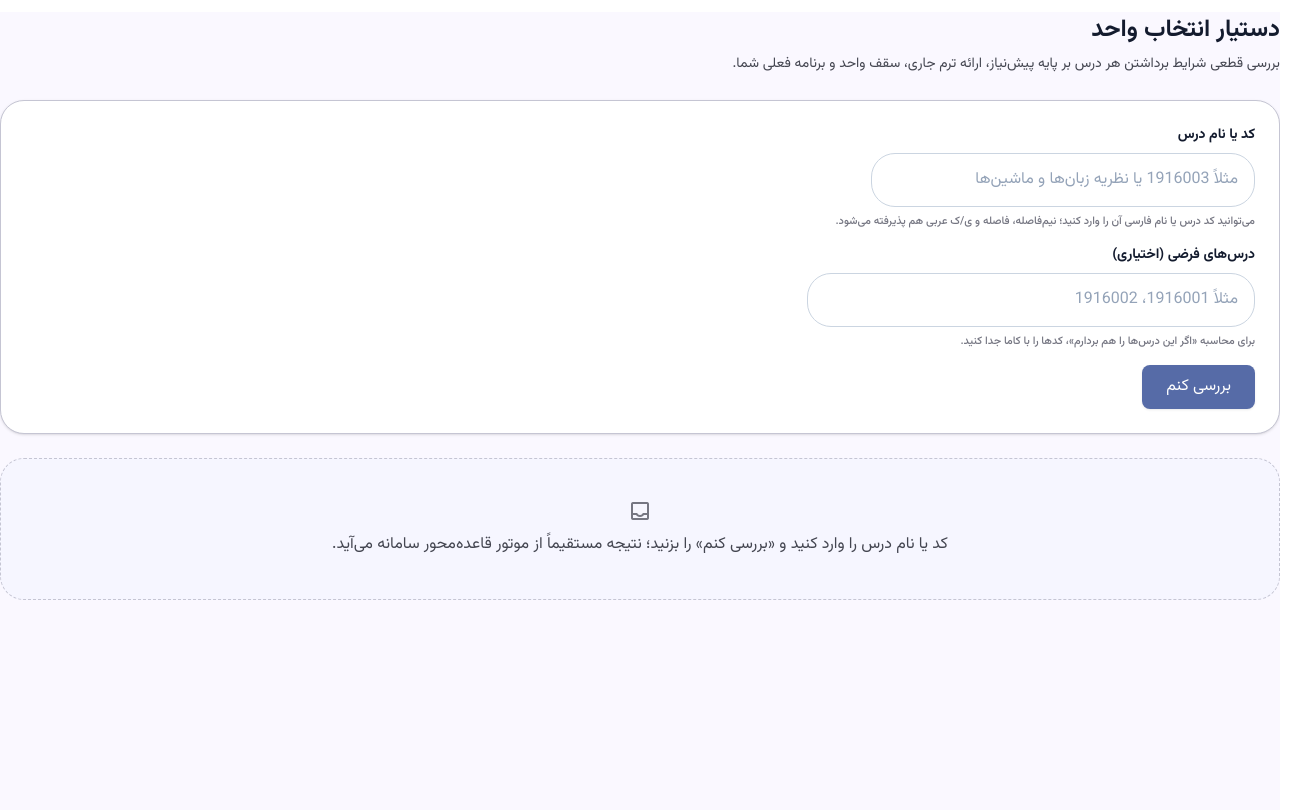
Scenario: course selection page › does not fire a second request when the button is double-clicked
Later steps or results of the test are not shown.
Type "1916003" into the field labelled "کد یا نام درس" at (1063, 180), box [871,153,1255,207]
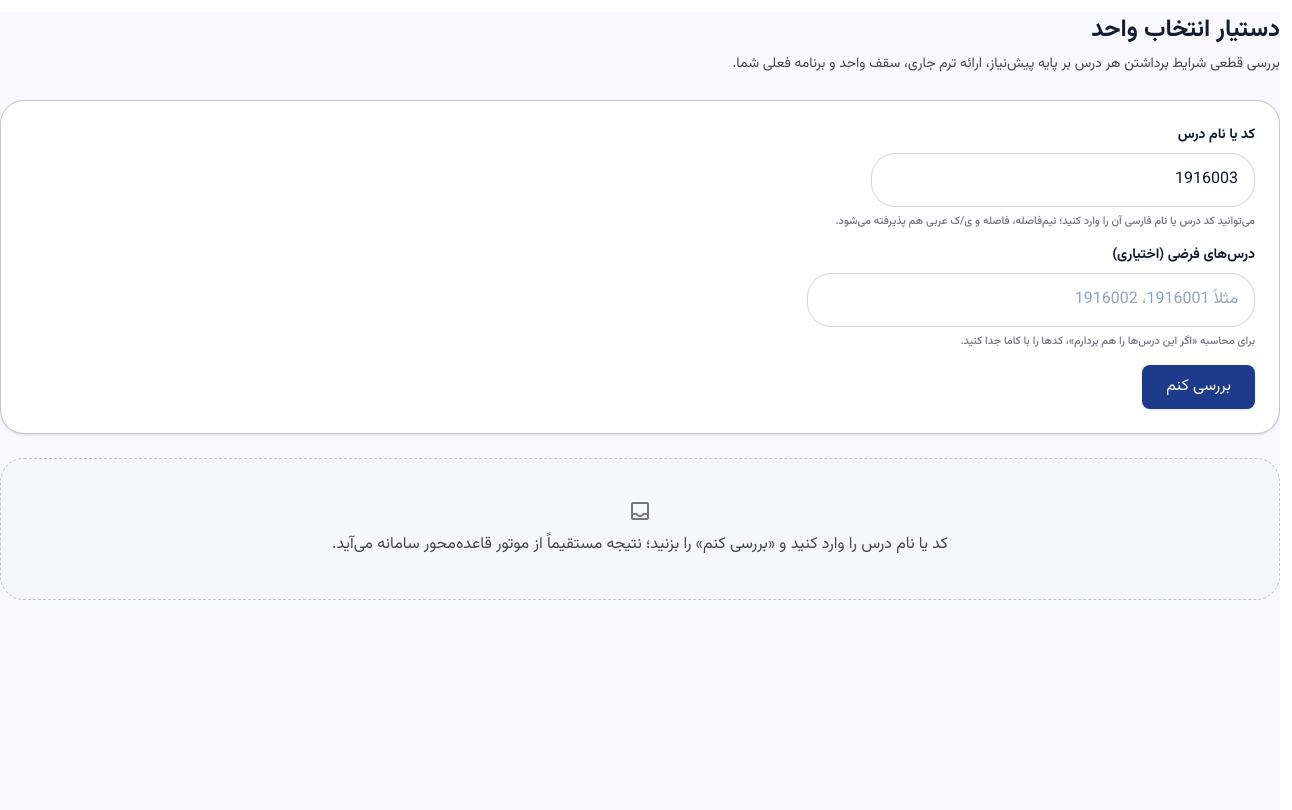
Click the button "بررسی کنم" at (1199, 387), box [1142,365,1255,409]
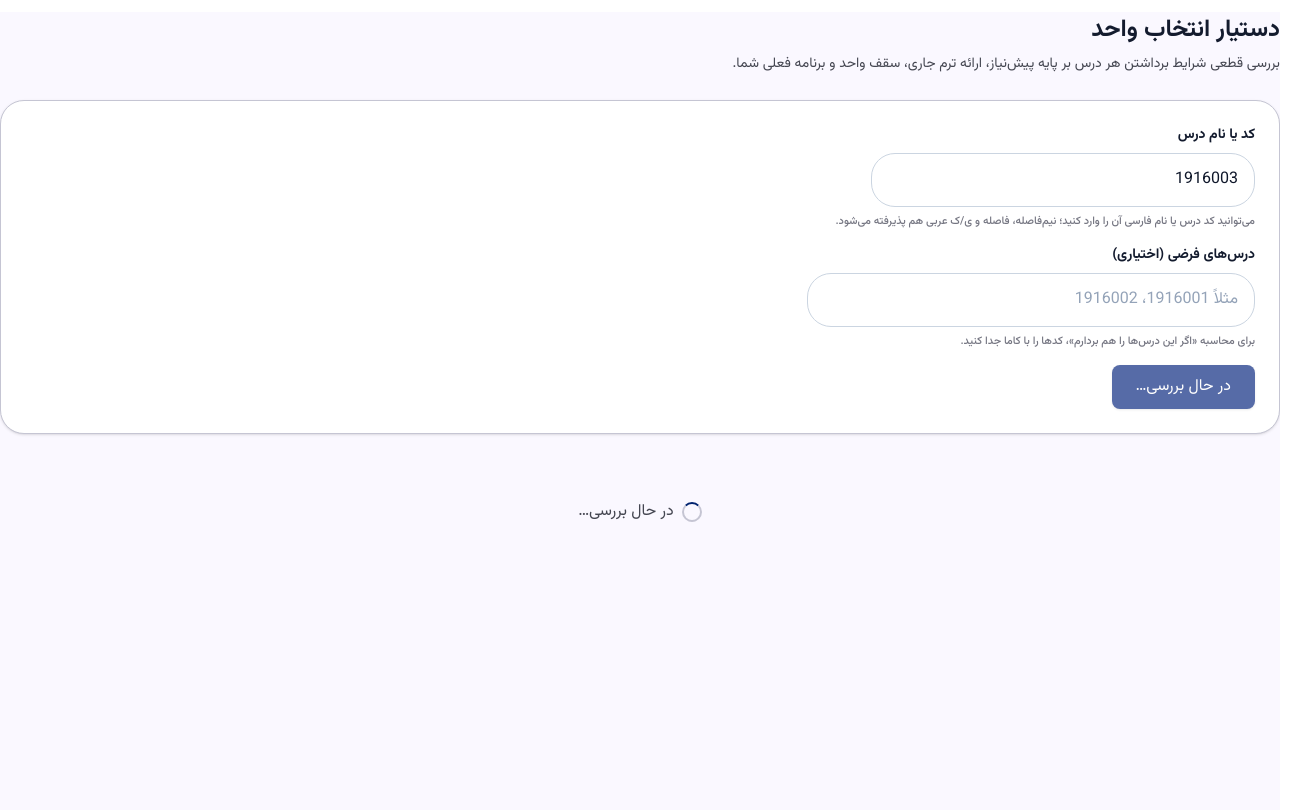
Click the button named "بررسی کنم" at (1183, 387), box [1112,365,1255,409]
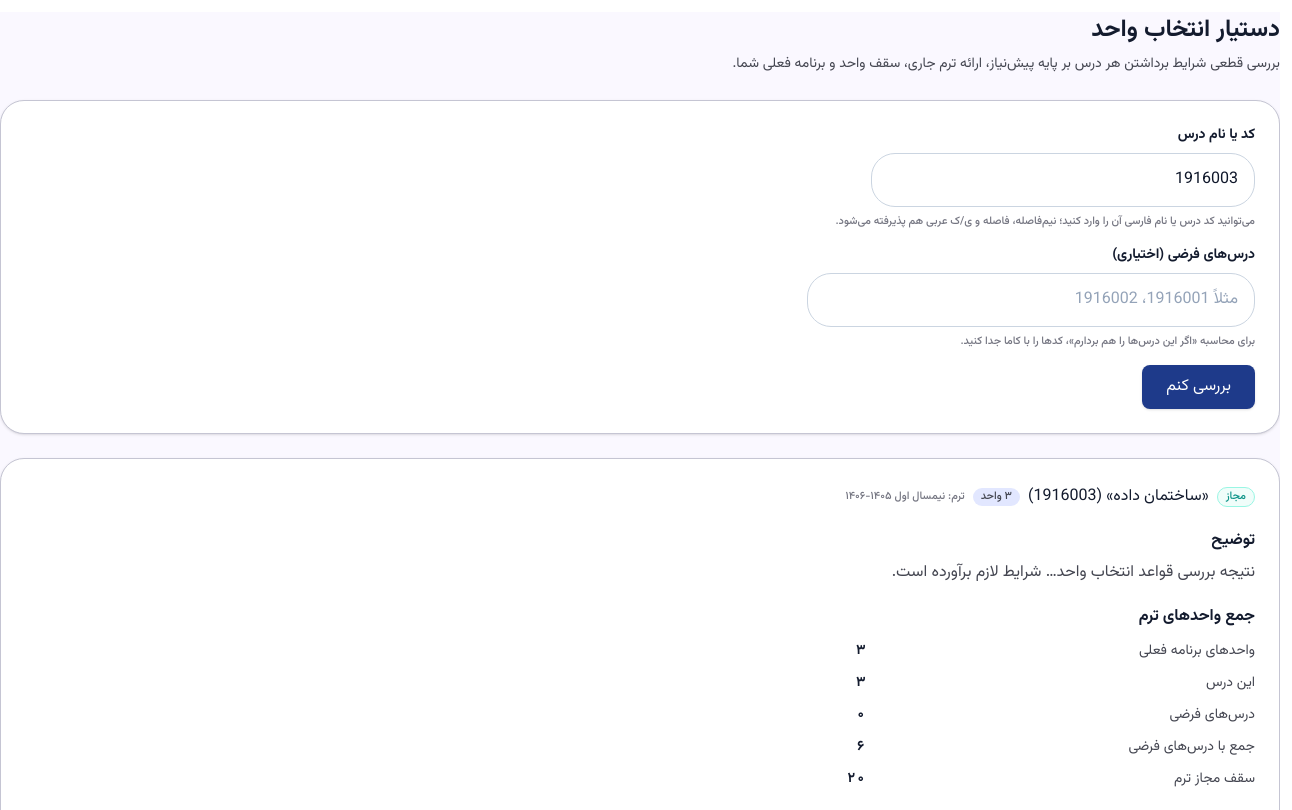
expect the text "«ساختمان داده» (1916003)" is shown: met, box [1028,483,1209,511]
